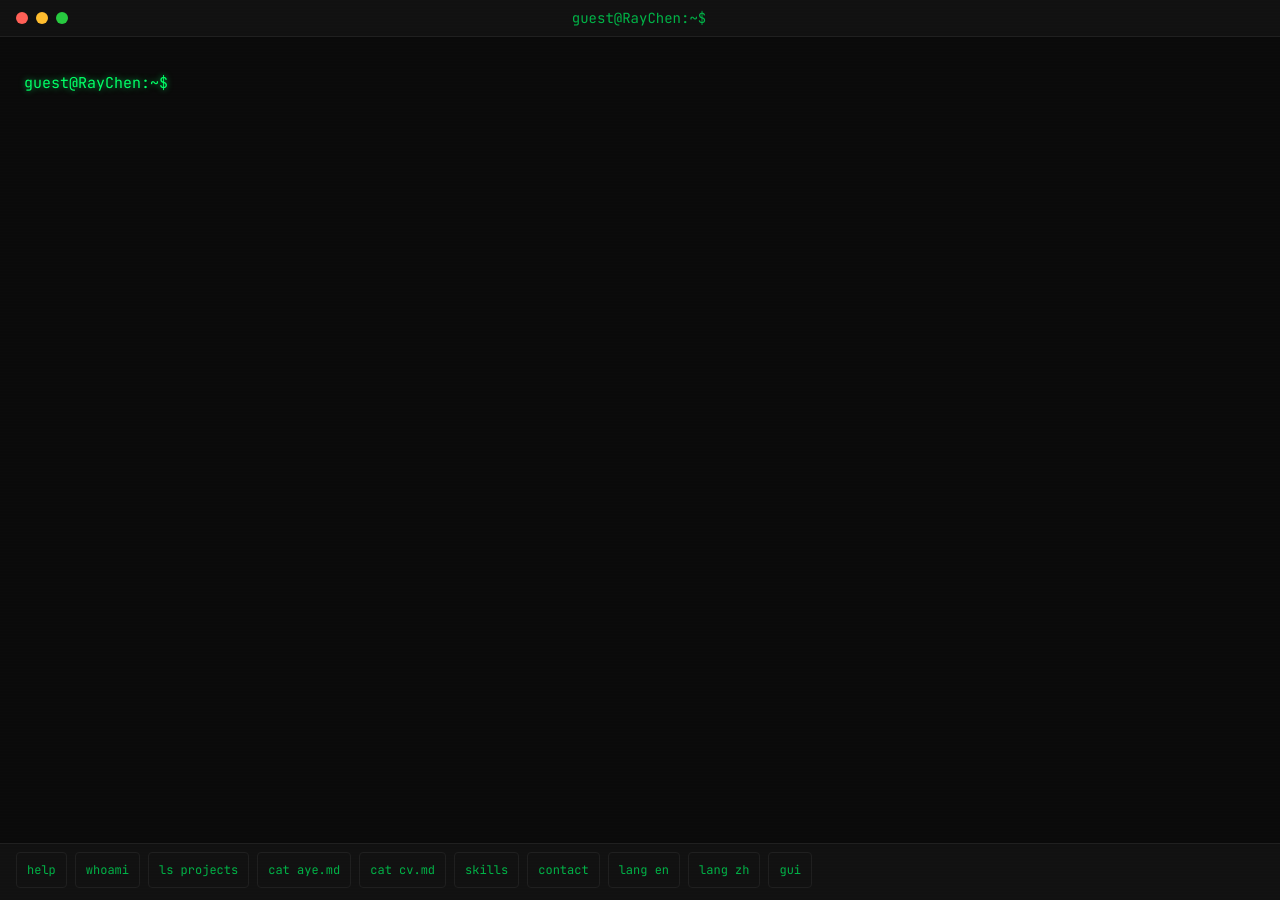
Test: Terminal · 快捷命令栏 (点击 = 直接执行) › 点击 "help" 触发 help 输出
This screenshot has width=1280, height=900.
Click the button "help" at (41, 870), box [16,852,67,888]
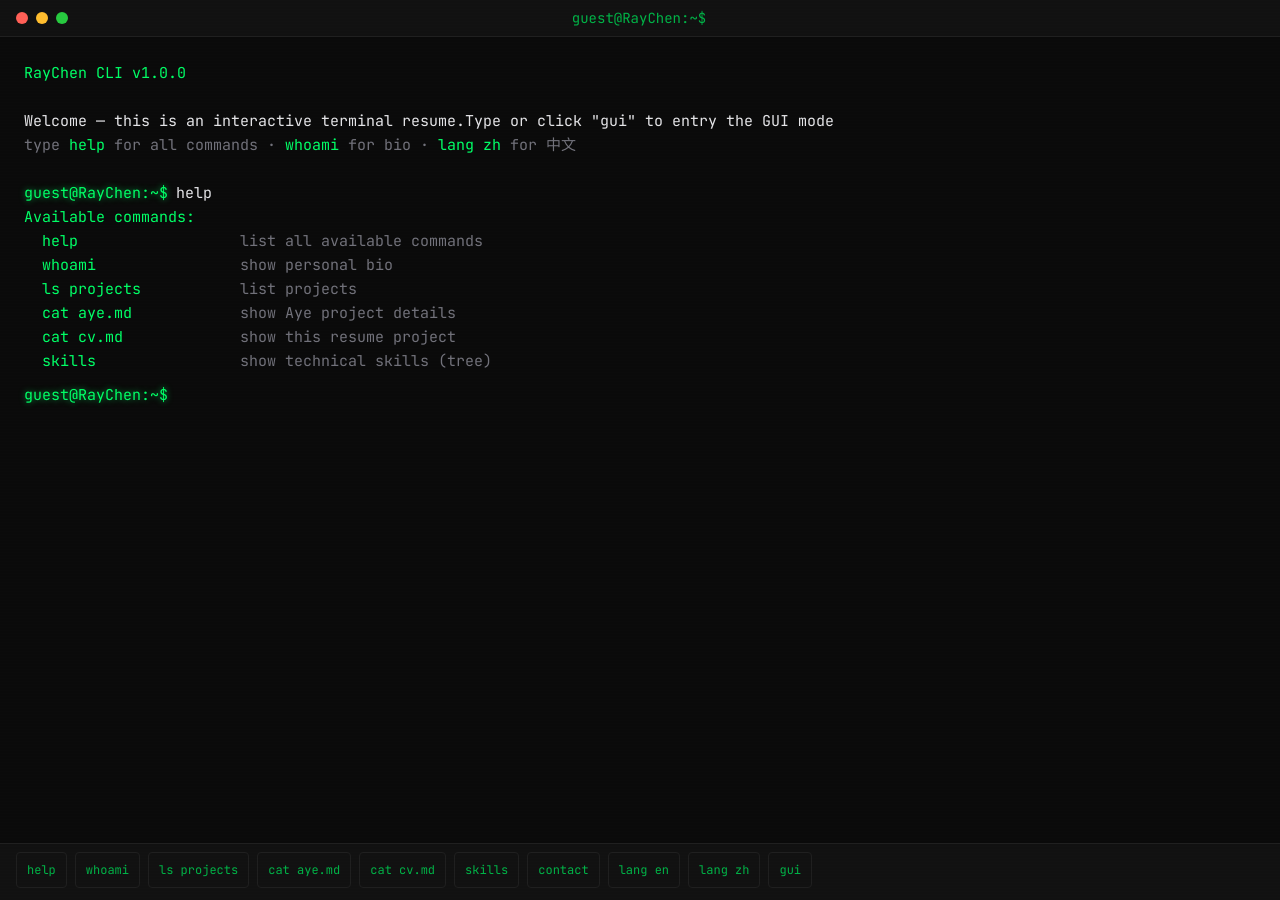
Expected: the text "Available commands:" is shown, [24,207,195,227]
